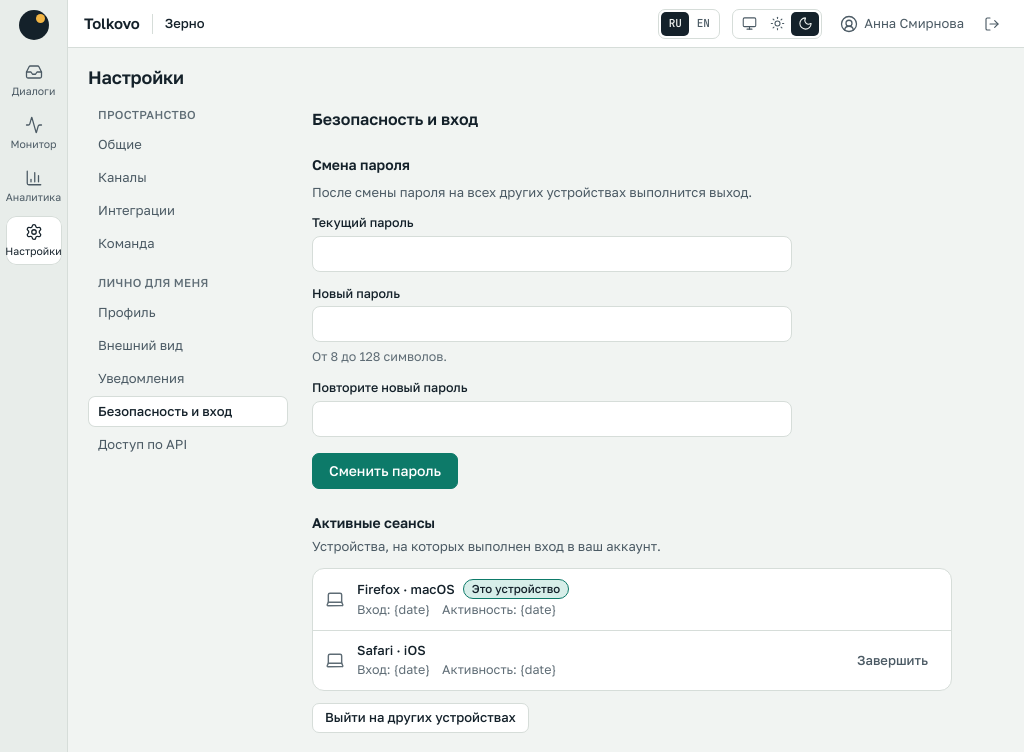
Test case: active sessions › signs out on every other device
The width and height of the screenshot is (1024, 752).
Click the button "Выйти на других устройствах".
click(420, 718)  # box [312,703,529,733]
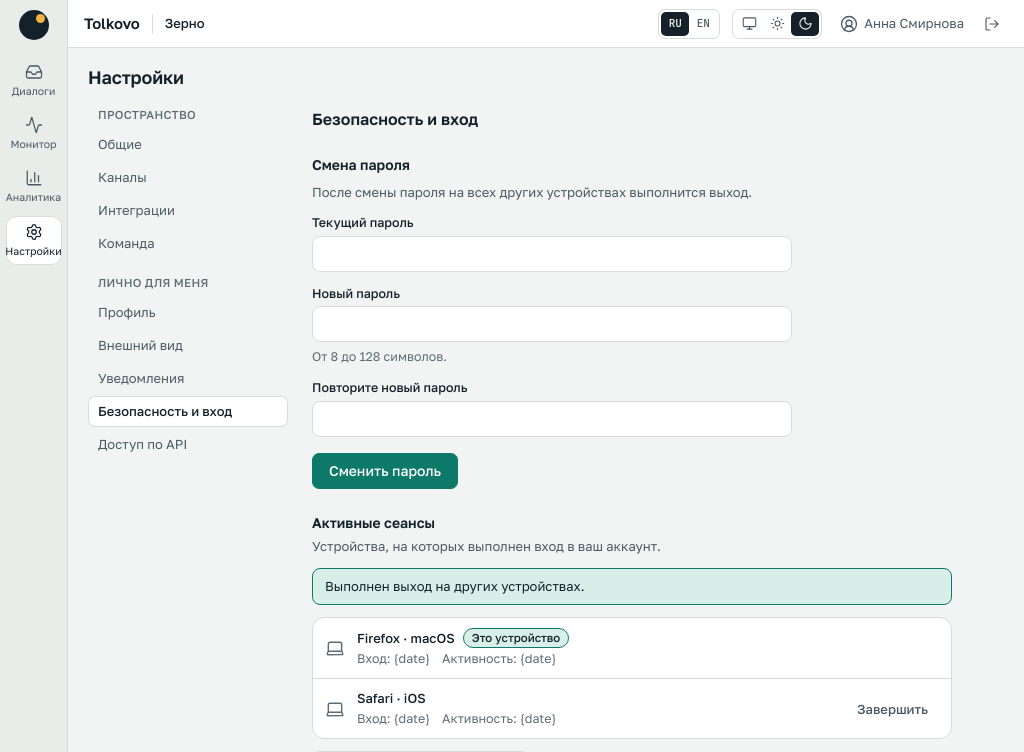
Check: the text "Выполнен выход на других устройствах." is shown, box [312,568,952,605]
